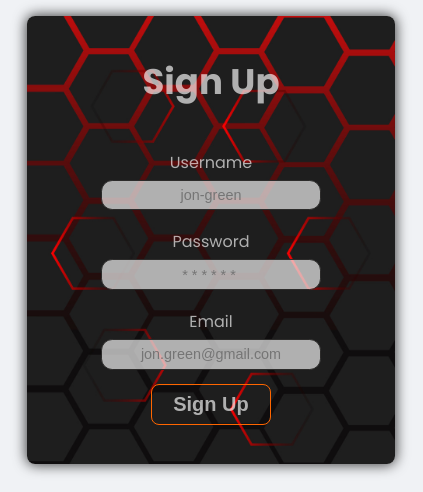
Testing SignUp validation messages functionality › Username under five characters should validation message
Type "john" into the field labelled "Username".
click(211, 195); type("john")  # box 101,180 -> 321,210
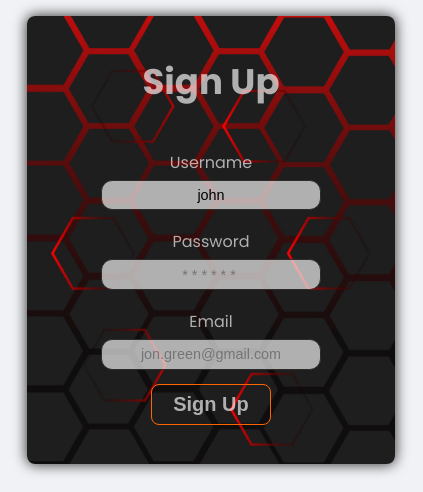
Leave the field labelled "Username", box 101,180 -> 321,210
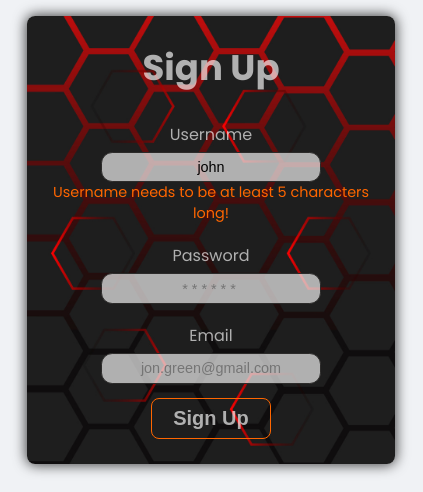
Check: the text "Username needs to be at least 5 characters long!" is shown, box 37,182 -> 385,224
